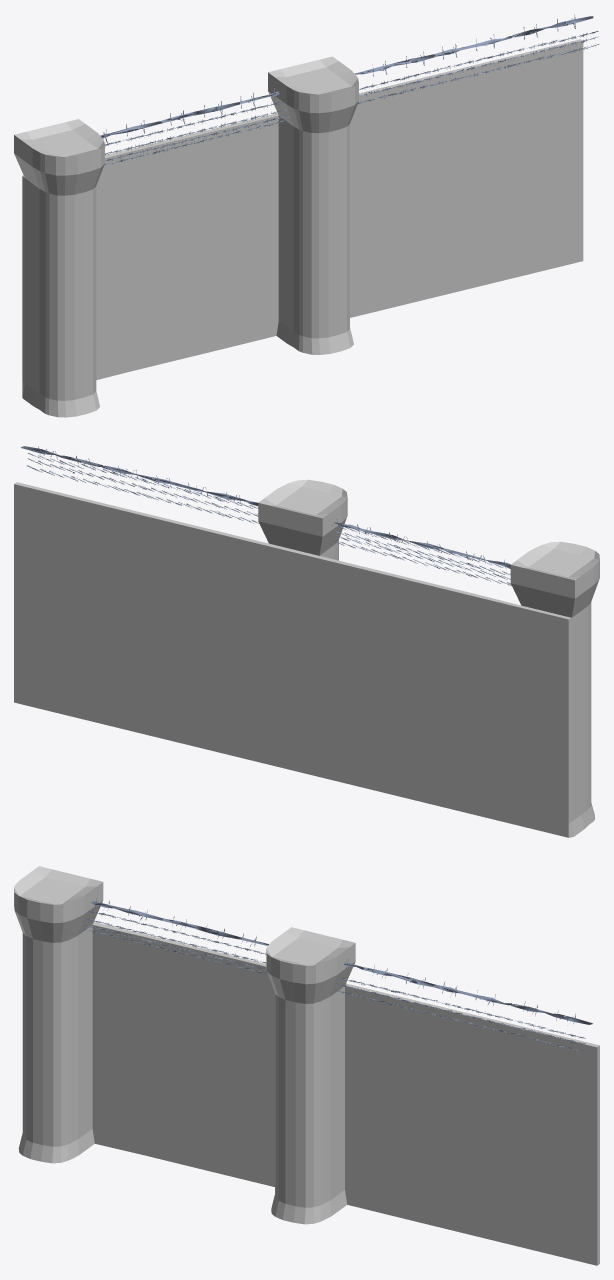
The model's file is FlatWallDecimatedDissolvedUnJoined.fbx.
3 renders of one model, top to bottom at view 1: azimuth 30°, elevation 25°; view 2: azimuth 150°, elevation 25°; view 3: azimuth 330°, elevation 25°, orthographic.
Parts seen in each view (by area): view 1: Cube, Circle.013; view 2: Cube, Circle.013; view 3: Cube, Circle.013.
Part boxes in pixels (x1,y1,x2,y2): Cube: (14, 39, 583, 417); Circle.013: (100, 14, 598, 166); Cube: (14, 479, 599, 837); Circle.013: (21, 446, 511, 585); Cube: (14, 866, 599, 1265); Circle.013: (82, 898, 592, 1052).
Bounding box in the file's own units: 233 × 103 × 26.72.
